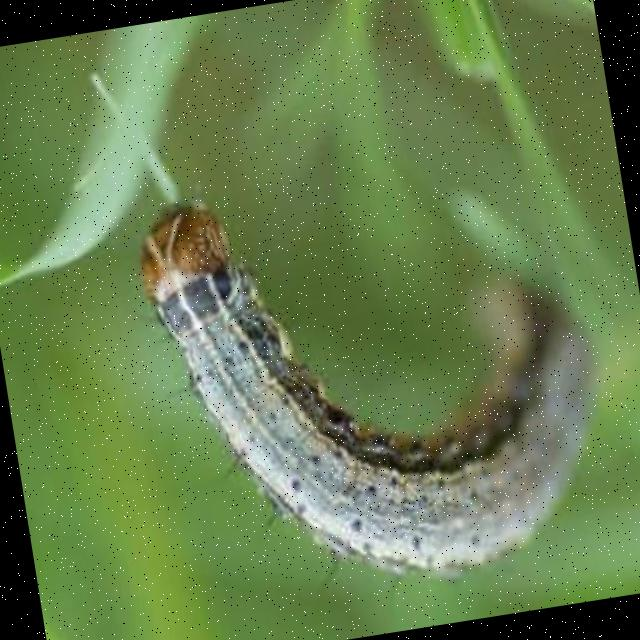worm: (130, 141, 629, 625)
